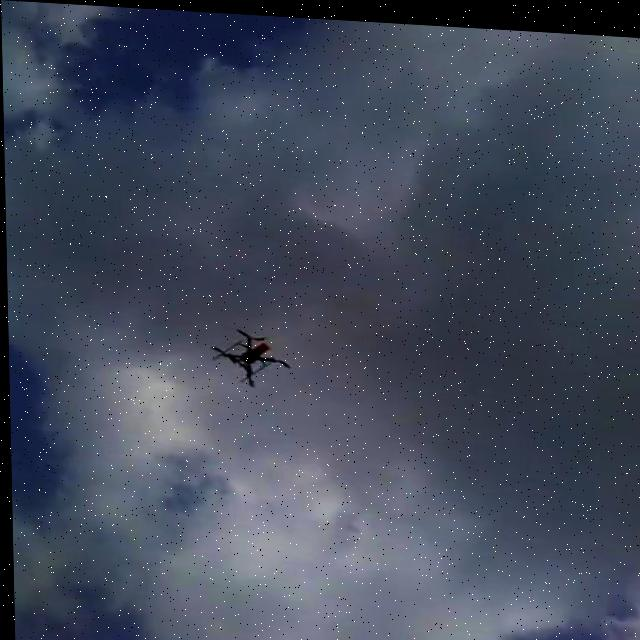drone: (206, 321, 294, 387)
